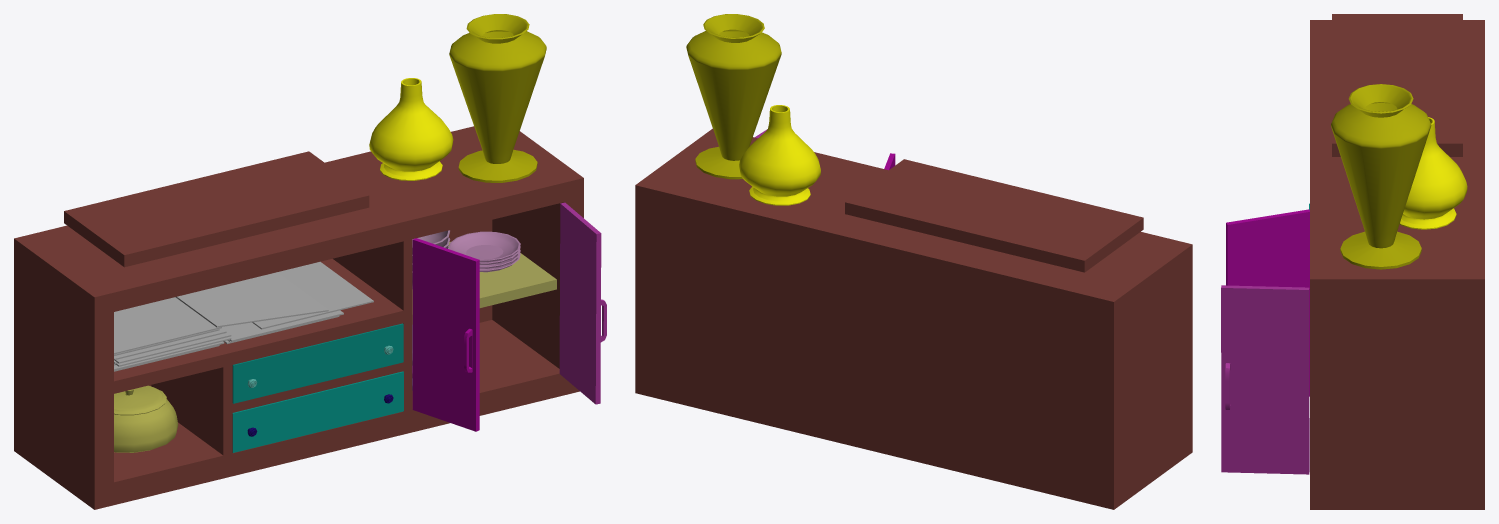
File: INTE_Rack_Estrutura.fbx
The picture shows the model from 3 angles, left to right: view 1: azimuth 30°, elevation 25°; view 2: azimuth 150°, elevation 25°; view 3: azimuth 270°, elevation 25°; orthographic projection. The views are drawn at different scales.
Visible parts, largest first — view 1: estrutura, gaveta (×2), PortaEsq, VasoComprido1, PortaDir, VasoBarrigudo, VinilMeioCima, Pote, VinilEsquerda, VinilDireita, PrateleiraInternaDireita, Prato4 (+1 smaller); view 2: estrutura, VasoComprido1, VasoBarrigudo; view 3: estrutura, PortaDir, VasoComprido1, PortaEsq, VasoBarrigudo.
Part boxes in pixels (<box>): estrutura: <box>14,126,583,509</box>; gaveta (×2): <box>232,323,403,452</box>; PortaEsq: <box>412,238,479,431</box>; VasoComprido1: <box>449,14,546,182</box>; PortaDir: <box>559,202,606,404</box>; VasoBarrigudo: <box>369,78,453,180</box>; VinilMeioCima: <box>175,272,328,327</box>; Pote: <box>114,385,178,452</box>; VinilEsquerda: <box>114,297,221,354</box>; VinilDireita: <box>252,261,373,329</box>; PrateleiraInternaDireita: <box>412,242,556,324</box>; Prato4: <box>449,231,520,262</box>; estrutura: <box>635,128,1192,509</box>; VasoComprido1: <box>686,14,781,179</box>; VasoBarrigudo: <box>739,105,820,205</box>; estrutura: <box>1310,14,1484,509</box>; PortaDir: <box>1221,285,1309,474</box>; VasoComprido1: <box>1331,84,1431,269</box>; PortaEsq: <box>1226,209,1309,396</box>; VasoBarrigudo: <box>1399,117,1467,229</box>.
Size of the model in its own units: 16.68 by 11.51 by 7.17.
